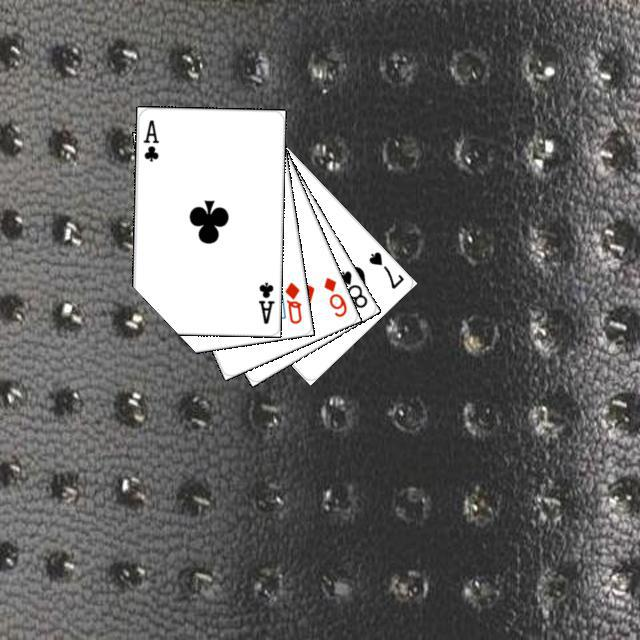6d: (319, 272, 349, 319)
7s: (364, 246, 405, 290)
8s: (333, 265, 369, 310)
Ac: (138, 115, 161, 163), (254, 277, 276, 326)
Qd: (280, 277, 304, 325)
